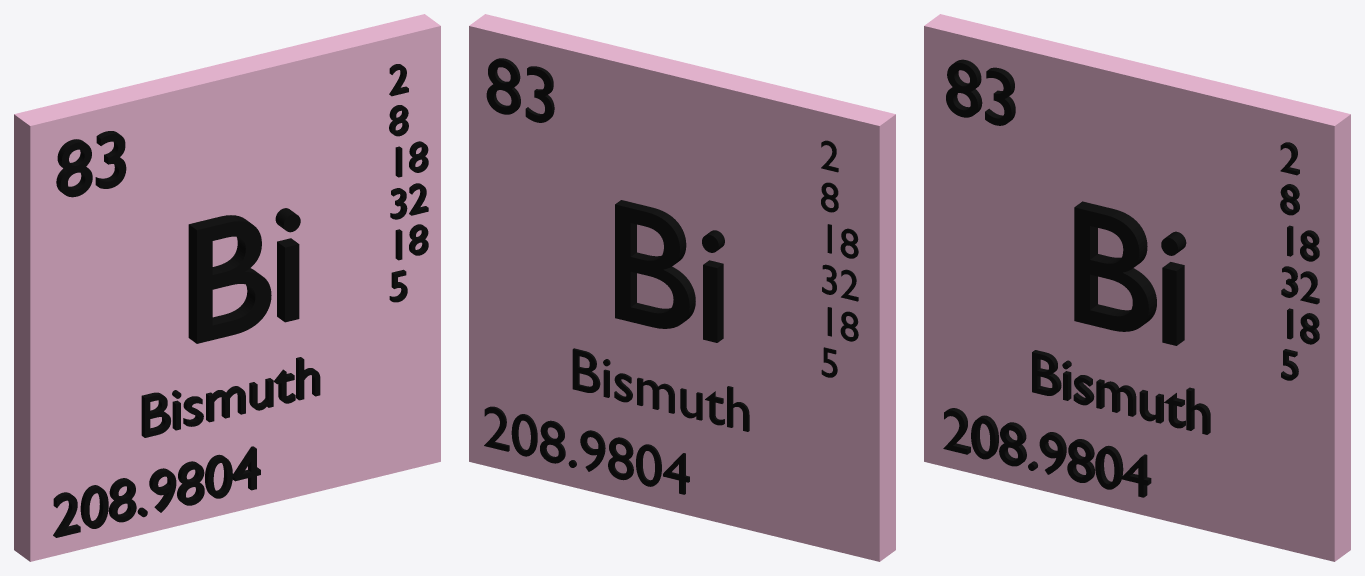
The model's file is bismuthText_01.fbx.
The picture shows the model from 3 angles, left to right: view 1: azimuth 30°, elevation 25°; view 2: azimuth 150°, elevation 25°; view 3: azimuth 330°, elevation 25°; orthographic projection.
Parts seen in each view (by area): view 1: Text.041; view 2: Text.041; view 3: Text.041.
Part boxes in pixels (bbox=[...]): Text.041: bbox=[14, 14, 440, 561]; Text.041: bbox=[469, 14, 895, 561]; Text.041: bbox=[924, 14, 1350, 561].
Size of the model in its own units: 26.38 by 26.75 by 3.41.
